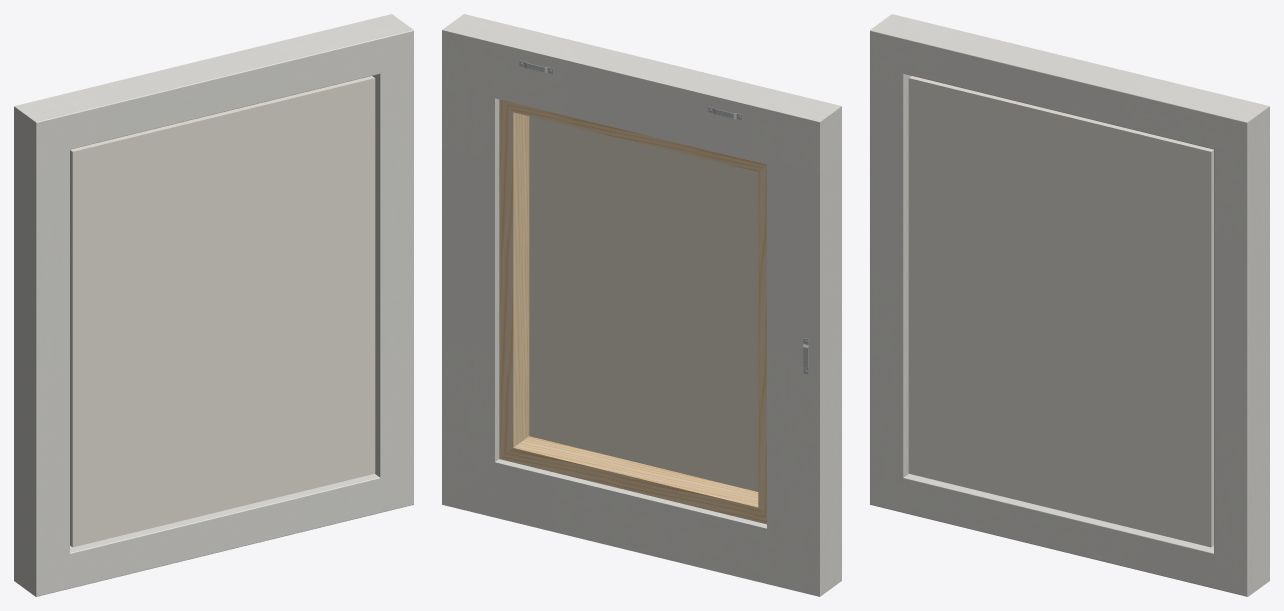
File: decoded-from-delivery.glb
The picture shows the model from 3 angles, left to right: view 1: azimuth 30°, elevation 25°; view 2: azimuth 150°, elevation 25°; view 3: azimuth 330°, elevation 25°; orthographic projection.
Visible parts, largest first — view 1: Canvas artwork front, Tray approved profile 0; view 2: Tray approved profile 0, Canvas linen reverse, Stretcher top, Sawtooth hanger 0; view 3: Canvas artwork front, Tray approved profile 0.
Part boxes in pixels (x1,y1,x2,y2): Canvas artwork front: [70, 76, 375, 547]; Tray approved profile 0: [14, 14, 413, 596]; Tray approved profile 0: [442, 14, 841, 596]; Canvas linen reverse: [529, 116, 758, 491]; Stretcher top: [499, 99, 766, 524]; Sawtooth hanger 0: [519, 60, 808, 374]; Canvas artwork front: [908, 76, 1213, 547]; Tray approved profile 0: [870, 14, 1269, 596].
Size of the model in its own units: 0.5 by 0.6 by 0.0534.
Materials: 7 (3 with a texture image).
